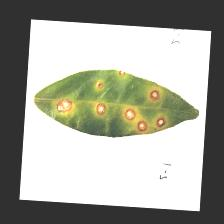canker: (48, 56, 174, 141)
